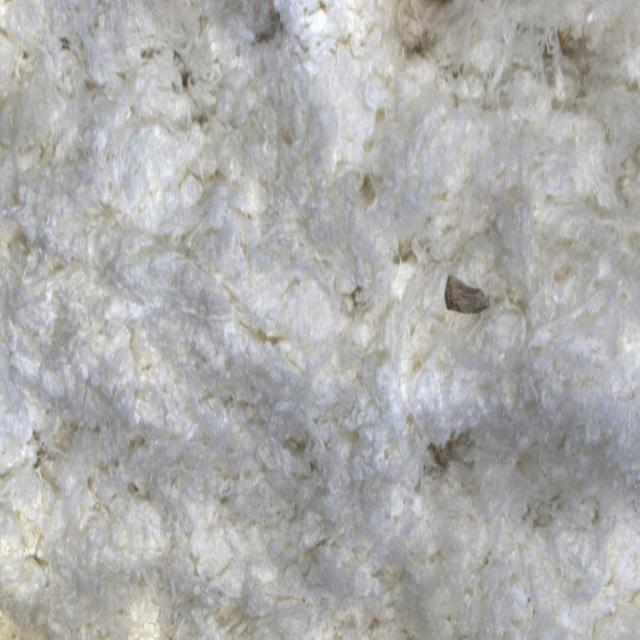dust: (415, 221, 513, 356)
